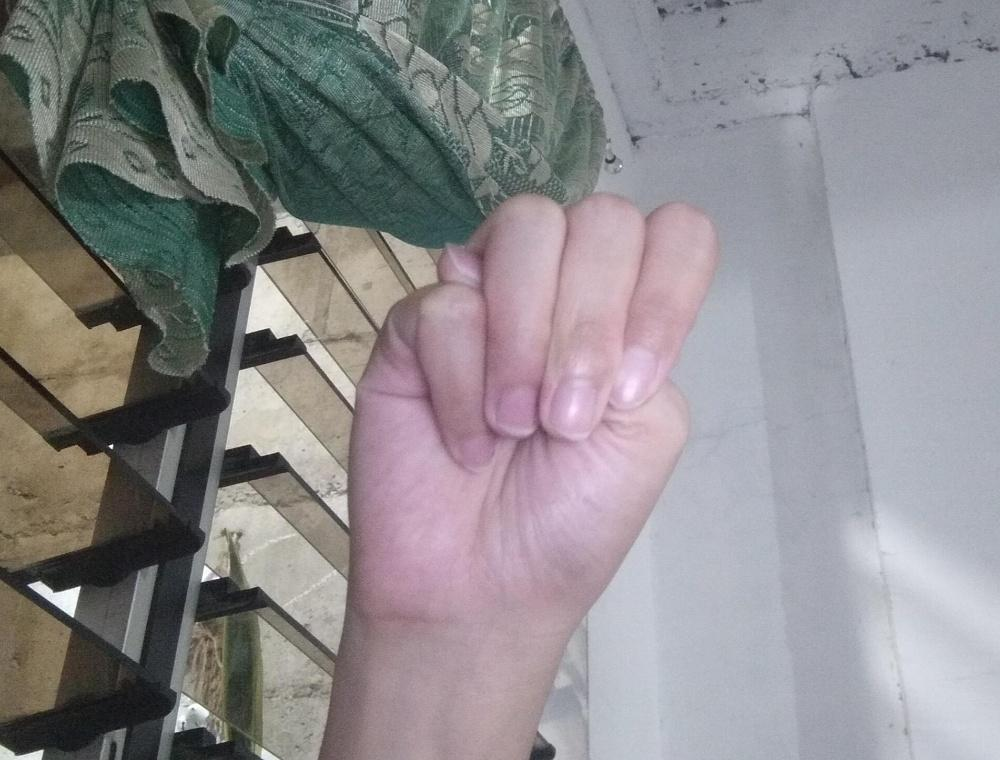m: (345, 190, 721, 630)
